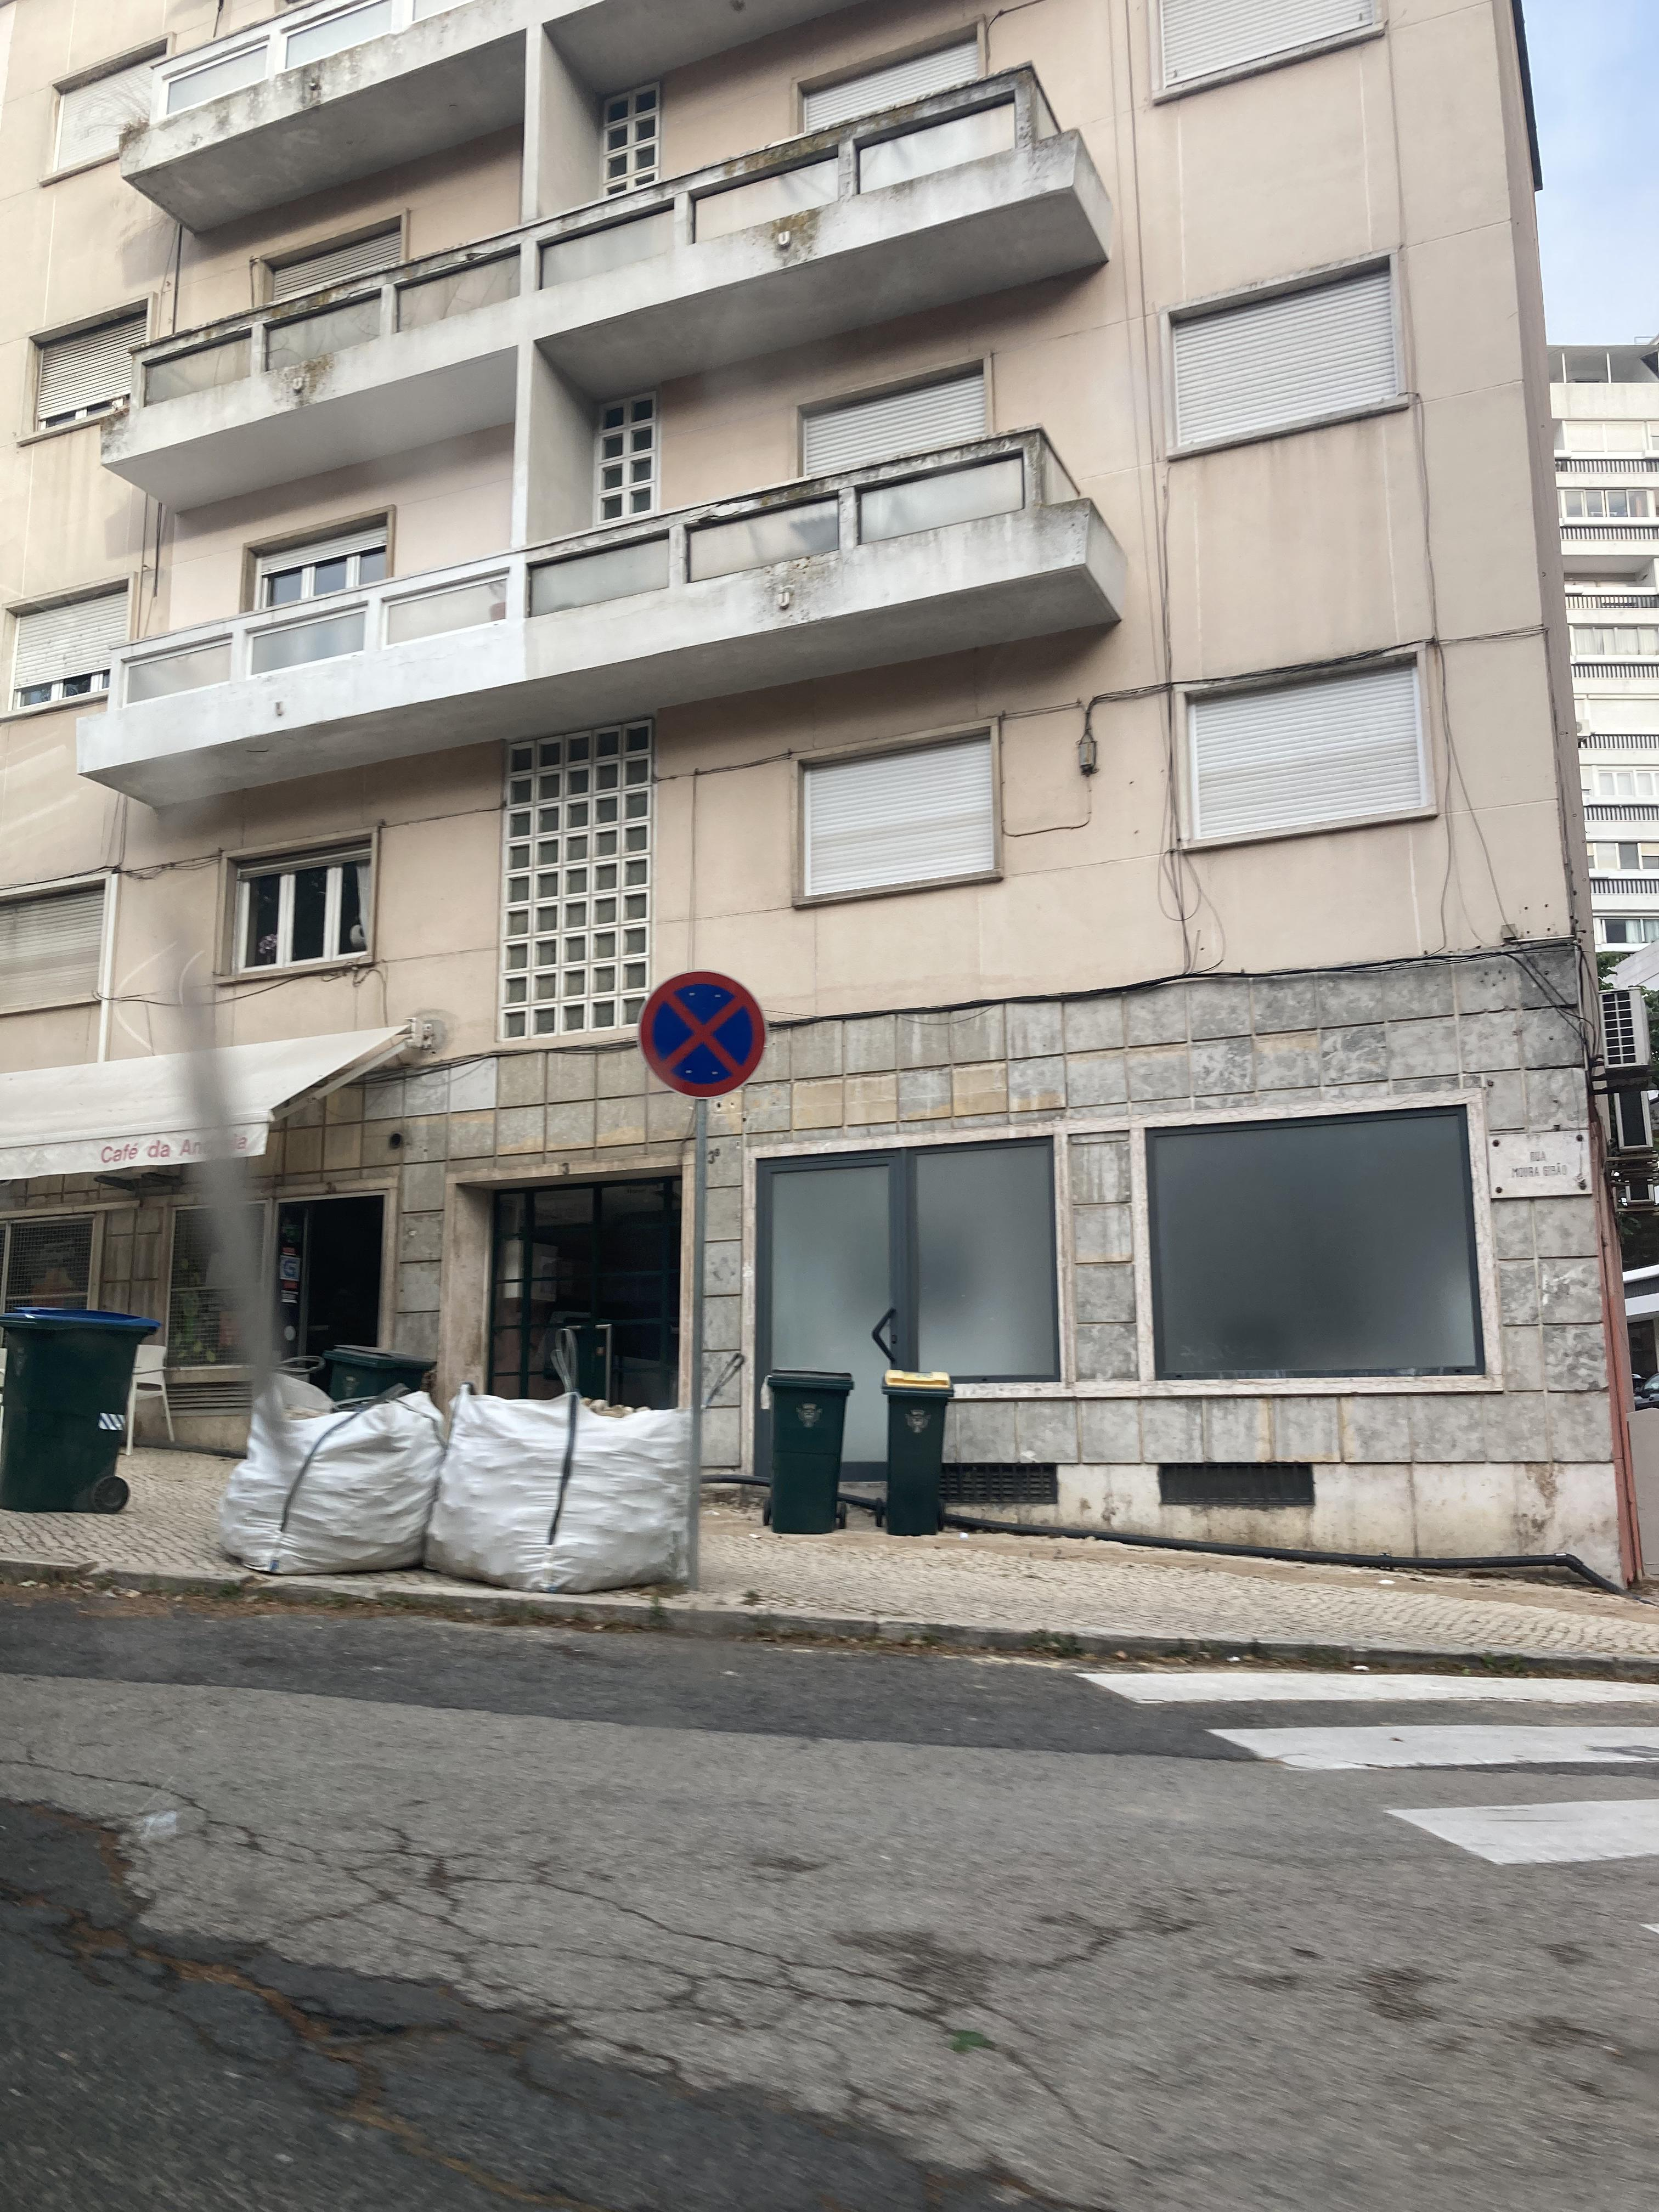Fim da paragem ou estacionamento proibidos: (624, 949, 782, 1111)
